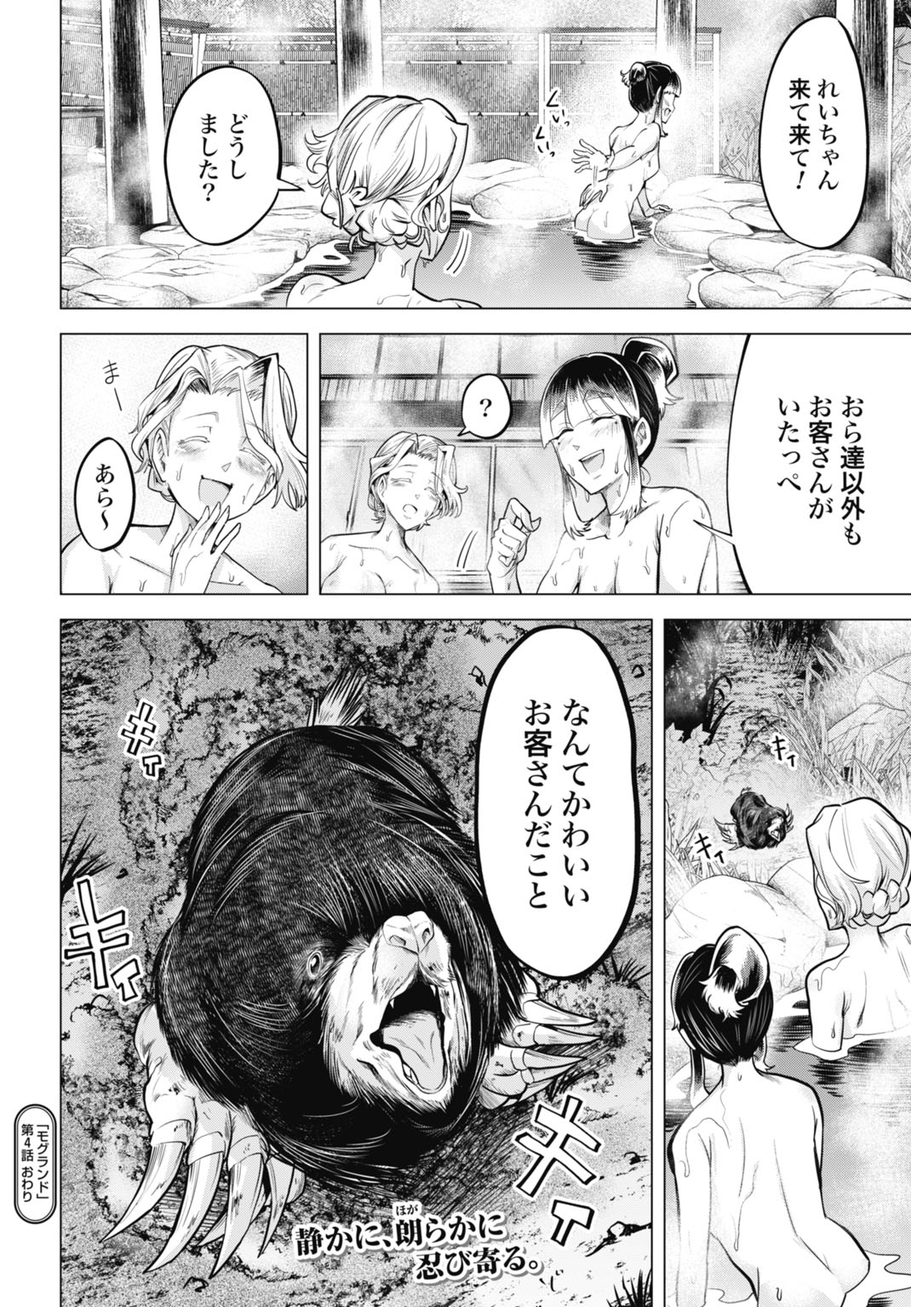bubbles: (467, 623, 643, 990), (685, 331, 911, 595), (756, 9, 873, 260), (163, 60, 307, 253), (70, 434, 141, 553)
